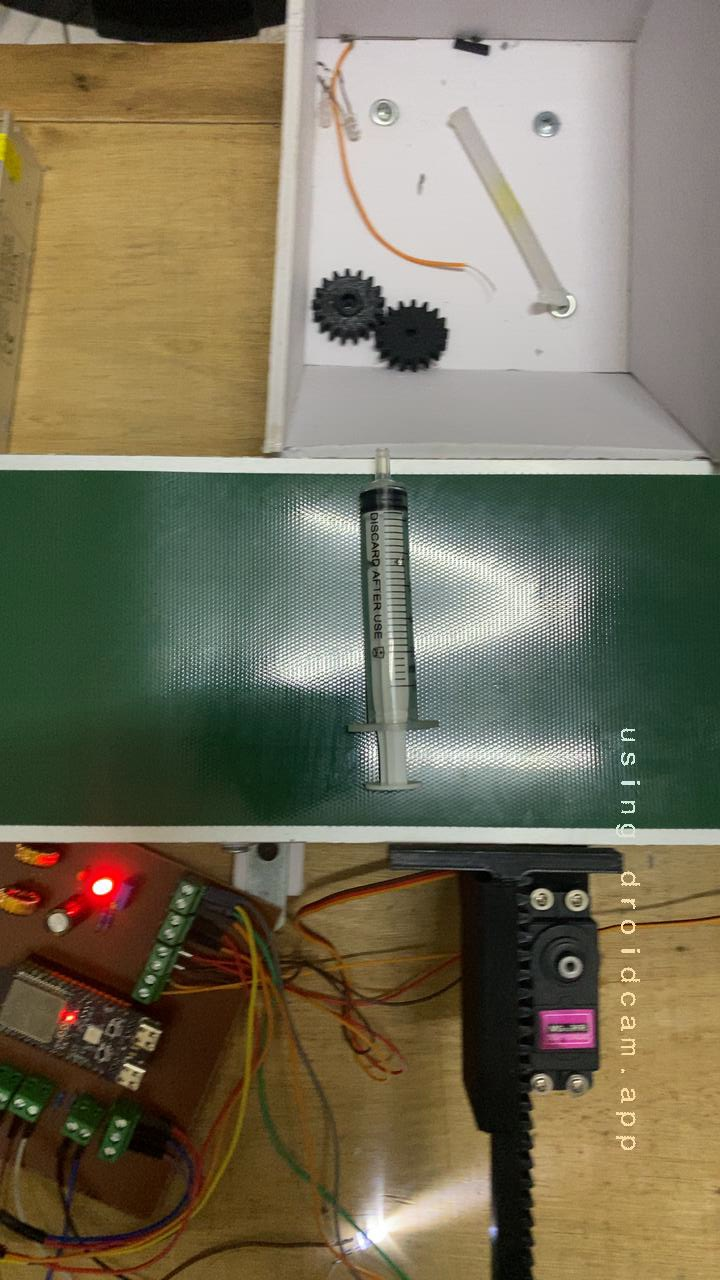syringe: (326, 472, 447, 792)
